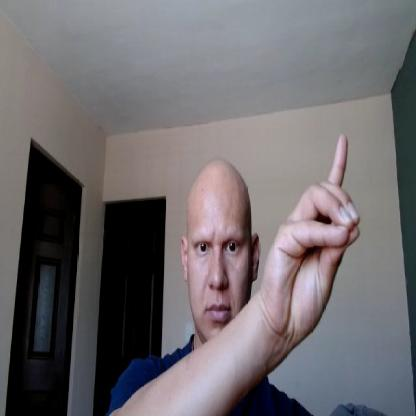D: (258, 132, 362, 339)
